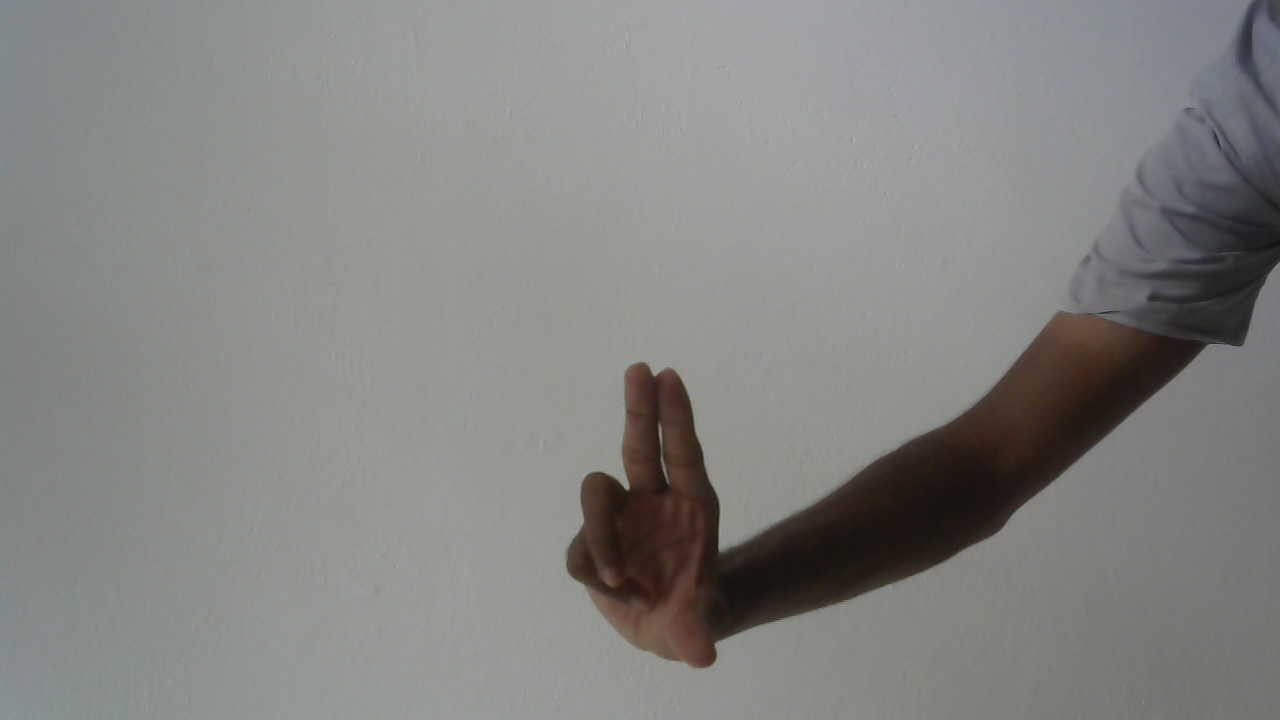no: (543, 347, 742, 683)
